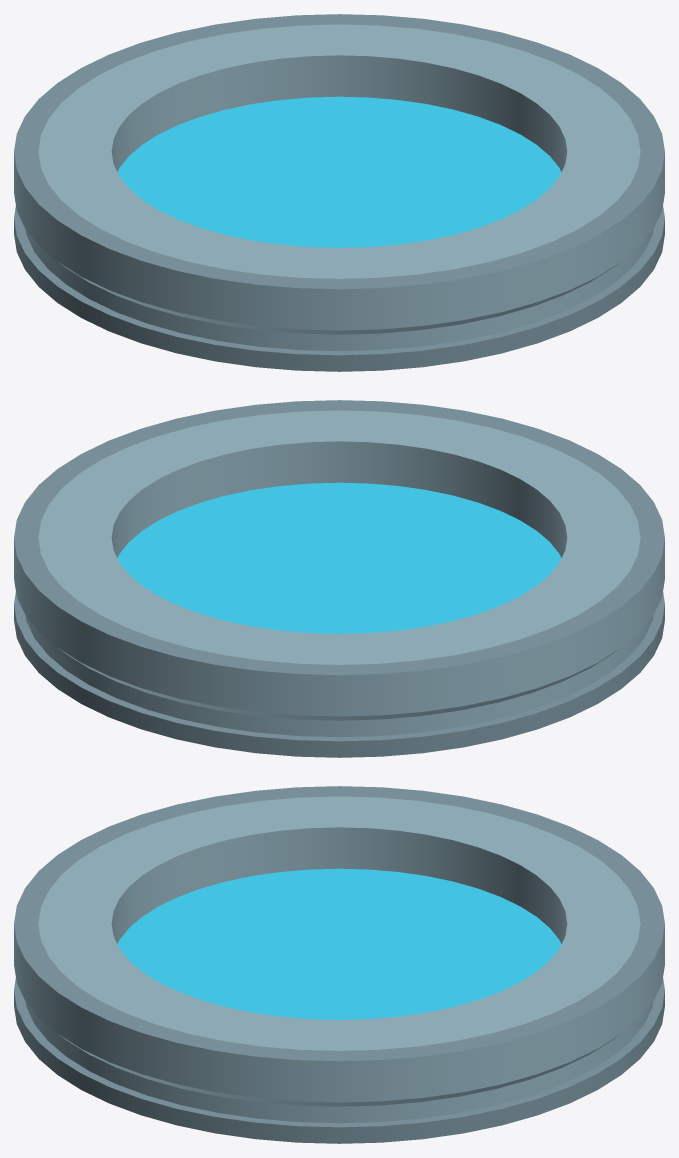
File: fountainRound.obj
3 views of the same model, one above another, from view 1: azimuth 30°, elevation 25°; view 2: azimuth 150°, elevation 25°; view 3: azimuth 270°, elevation 25° (orthographic).
Visible parts, largest first — view 1: fountainRound; view 2: fountainRound; view 3: fountainRound.
Part boxes in pixels (x1=…): fountainRound: x1=14, y1=14, x2=664, y2=371; fountainRound: x1=14, y1=400, x2=664, y2=757; fountainRound: x1=14, y1=786, x2=664, y2=1143.
Bounding box in the file's own units: 2 × 0.28 × 2.
